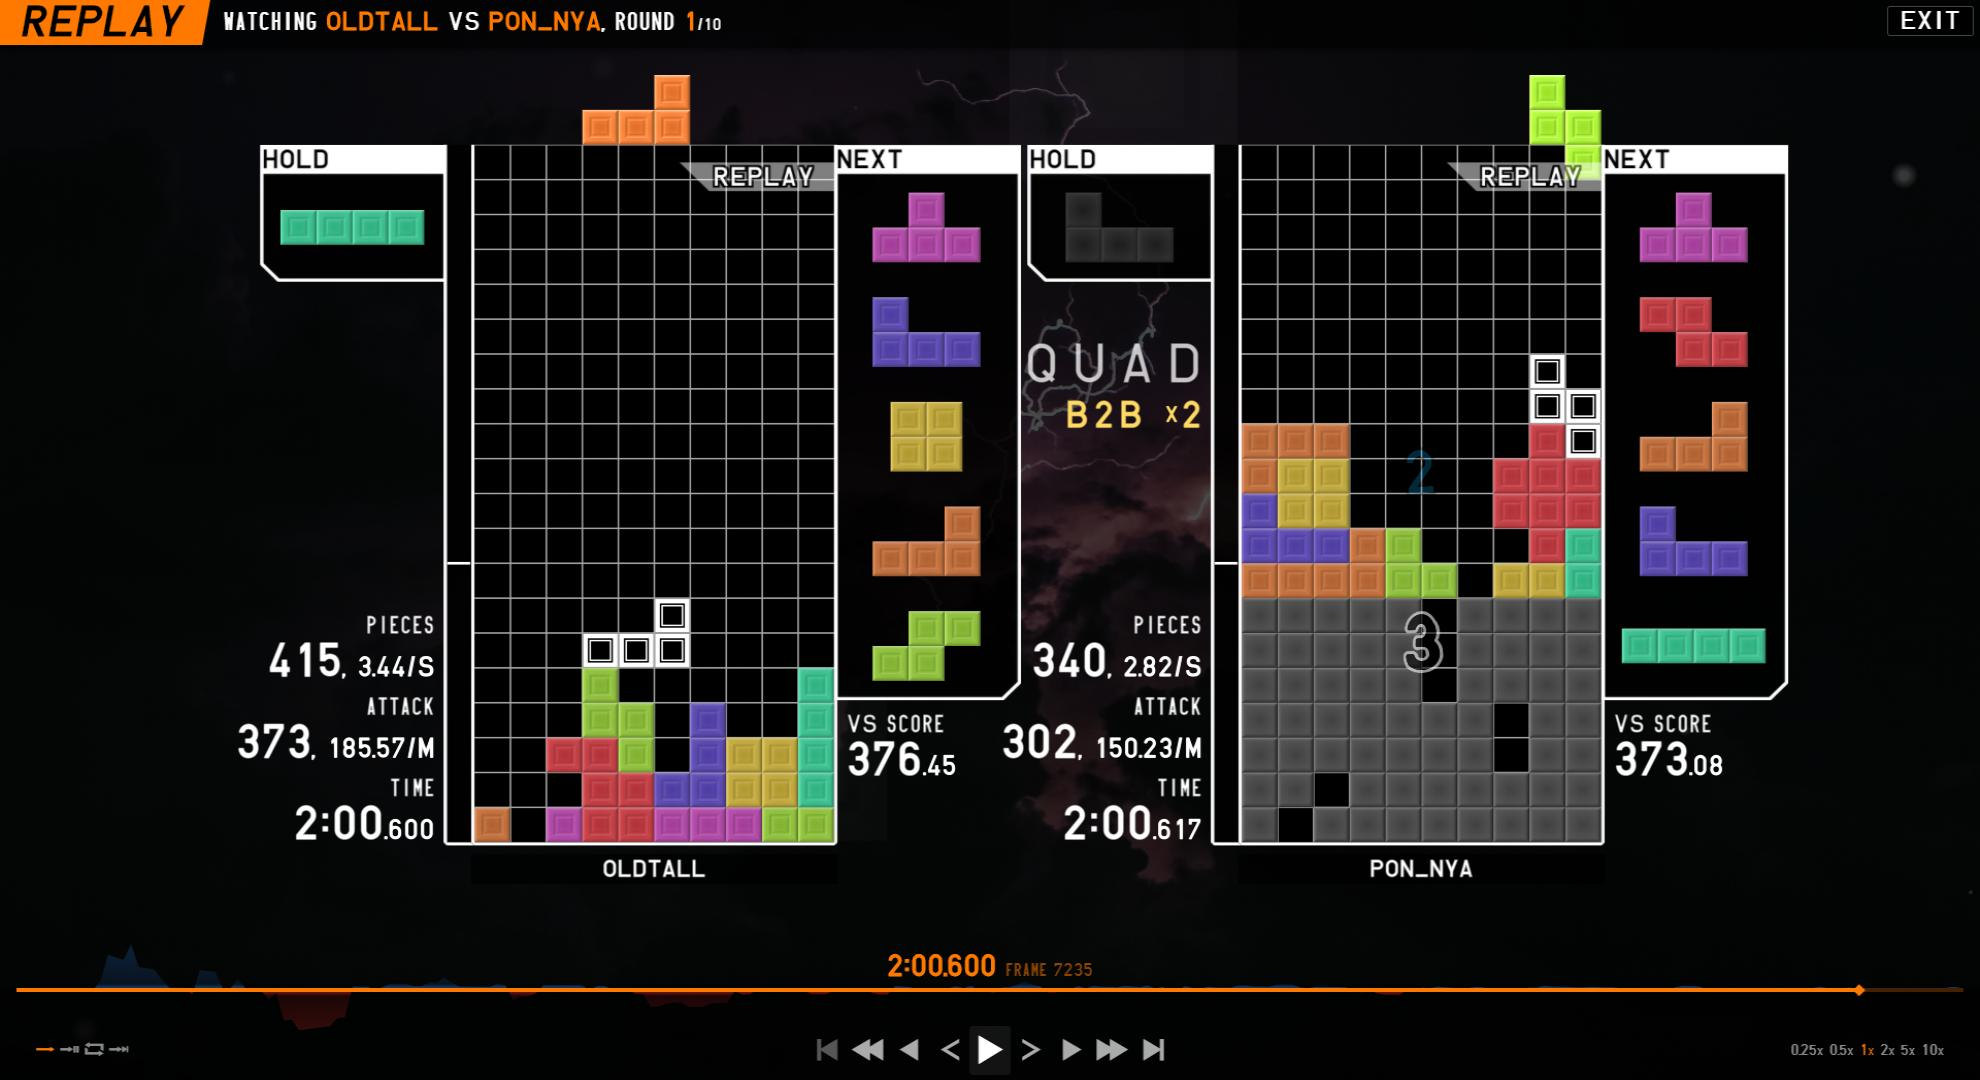tspin: (1423, 487, 1533, 601), (469, 741, 588, 843)
